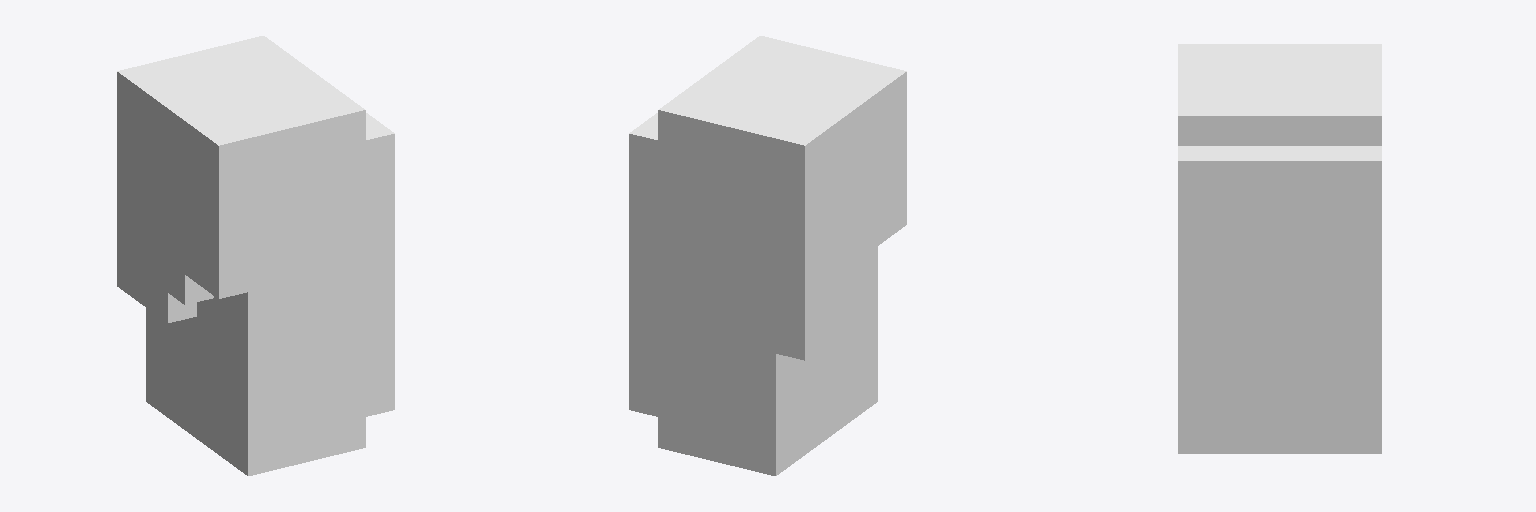
Rendered from DragonThingArmsLeftShoulder.obj.
3 renders of one model, left to right at view 1: azimuth 30°, elevation 25°; view 2: azimuth 150°, elevation 25°; view 3: azimuth 270°, elevation 25°, orthographic.
Visible parts, largest first — view 1: DragonThingArmsLeftShoulder; view 2: DragonThingArmsLeftShoulder; view 3: DragonThingArmsLeftShoulder.
Boxes of the visible parts, x1=… form: DragonThingArmsLeftShoulder: x1=117, y1=36, x2=394, y2=475; DragonThingArmsLeftShoulder: x1=629, y1=36, x2=906, y2=475; DragonThingArmsLeftShoulder: x1=1178, y1=44, x2=1381, y2=453.
Bounding box in the file's own units: 6 × 11 × 6.